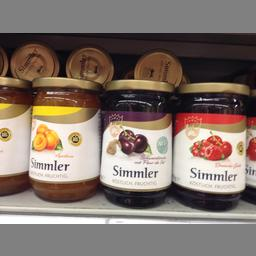jam: (170, 78, 248, 212), (25, 76, 102, 202), (100, 79, 174, 208)
